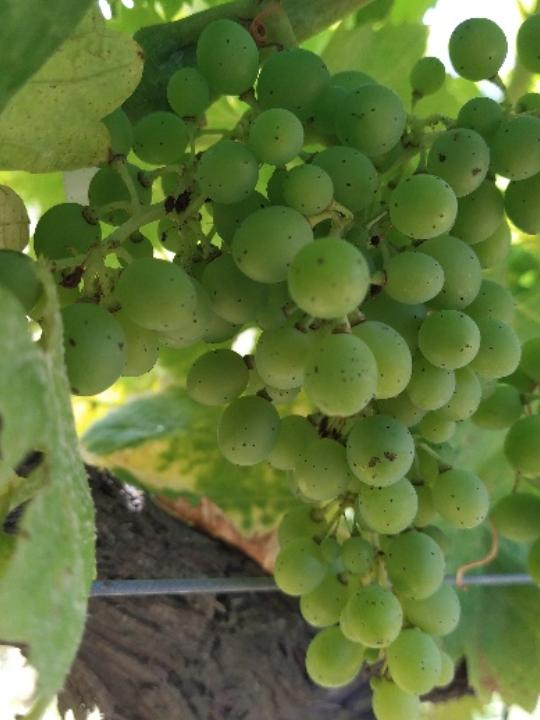grape: (0, 8, 540, 720)
